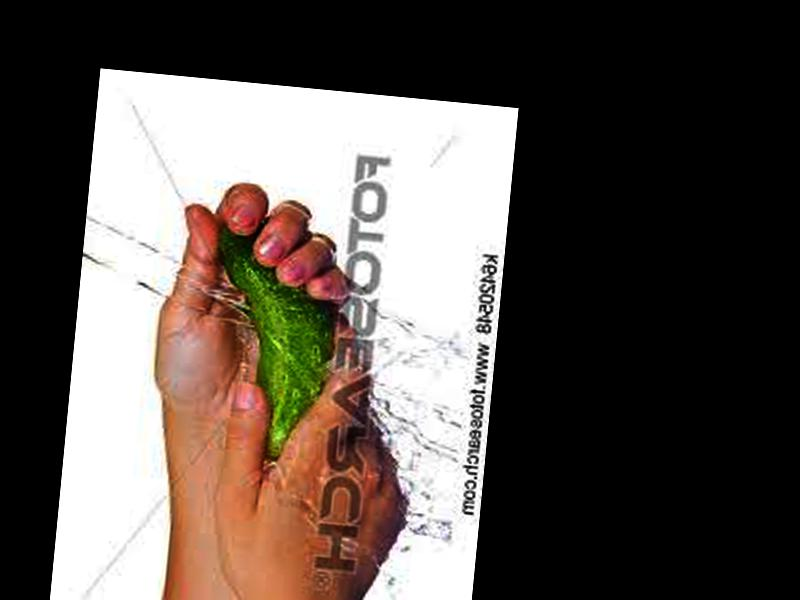Cucumber: (197, 223, 348, 471)
